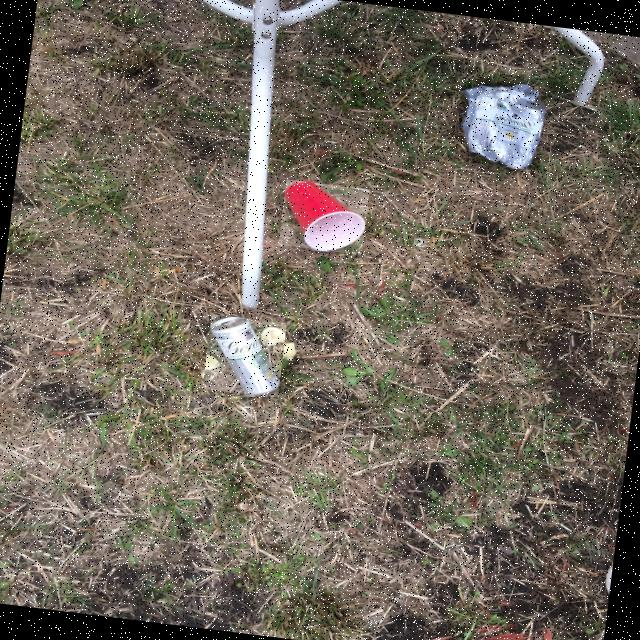Disposable plastic cup: (284, 182, 365, 251)
Drink can: (209, 317, 279, 396)
Plastic film: (460, 85, 546, 168)
Pop tab: (413, 238, 426, 247)
